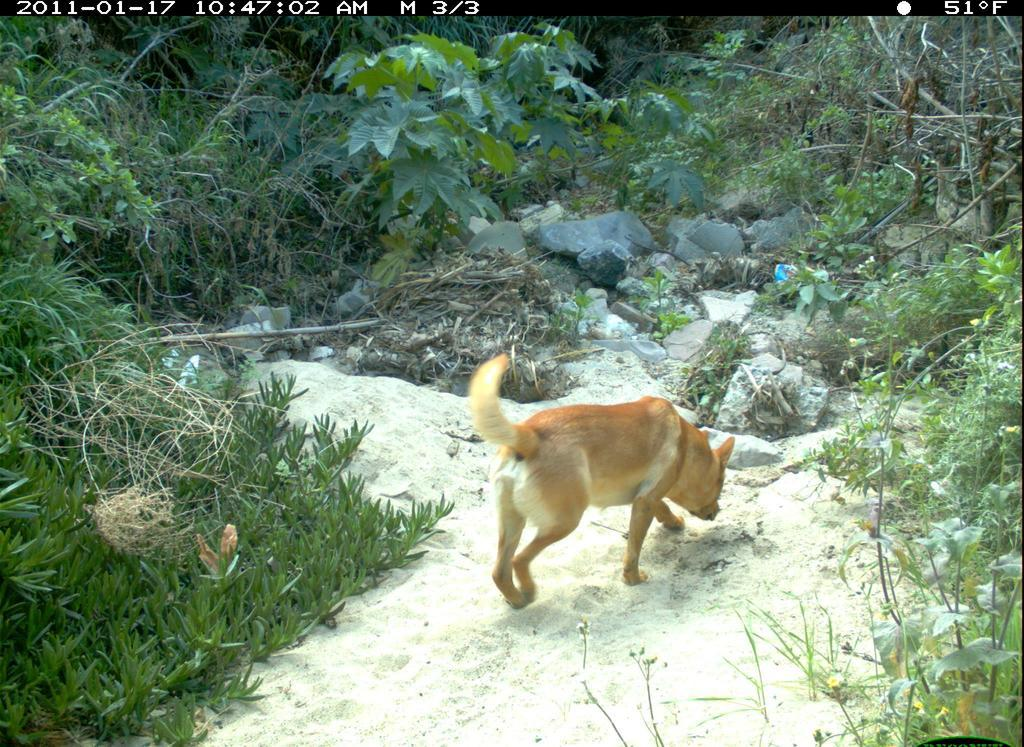dog: (436, 323, 763, 610)
